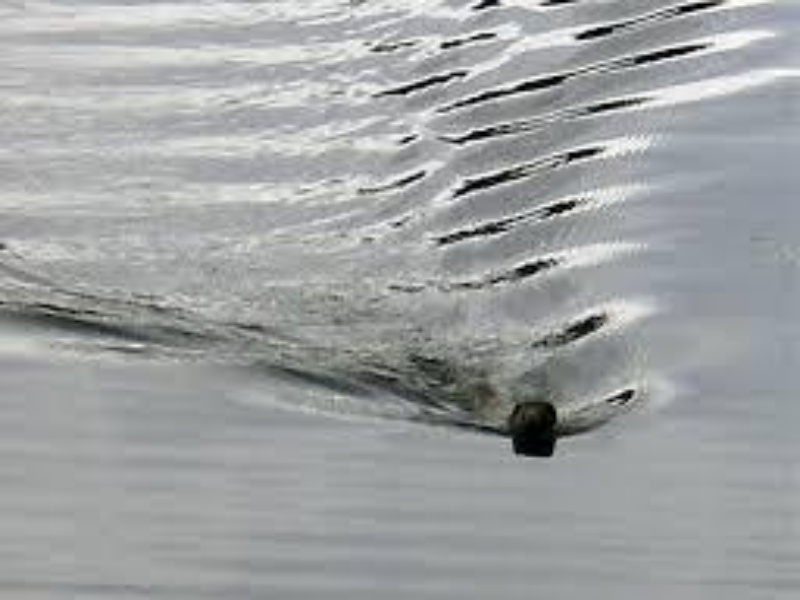minkish: (509, 402, 557, 442)
